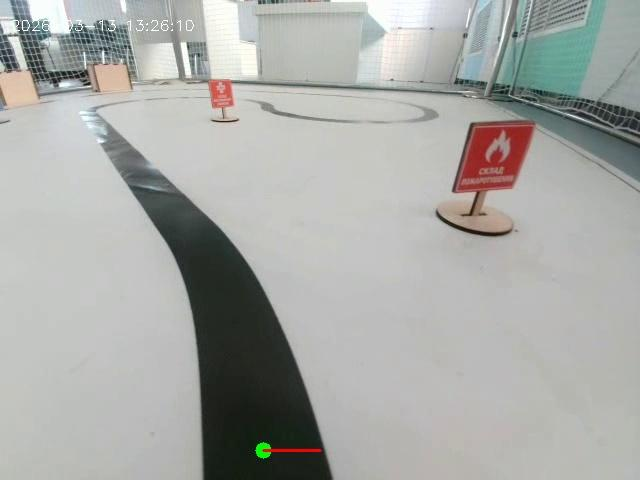fire: (443, 103, 540, 228)
medical: (194, 68, 244, 135)
